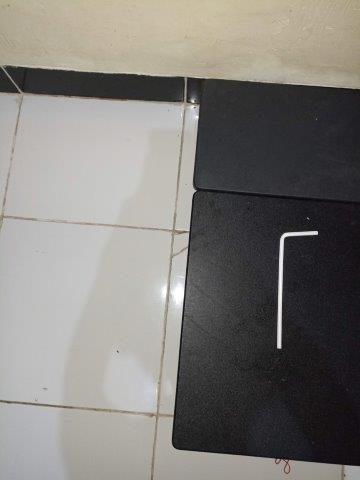karet: (275, 458, 291, 474)
sedotan: (276, 231, 318, 349)
